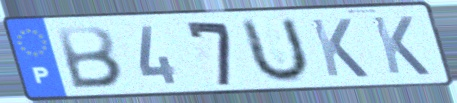4: (136, 23, 179, 86)
7: (182, 19, 234, 88)
B: (53, 24, 126, 91)
K: (368, 14, 434, 78), (307, 17, 372, 80)
U: (239, 15, 313, 86)
